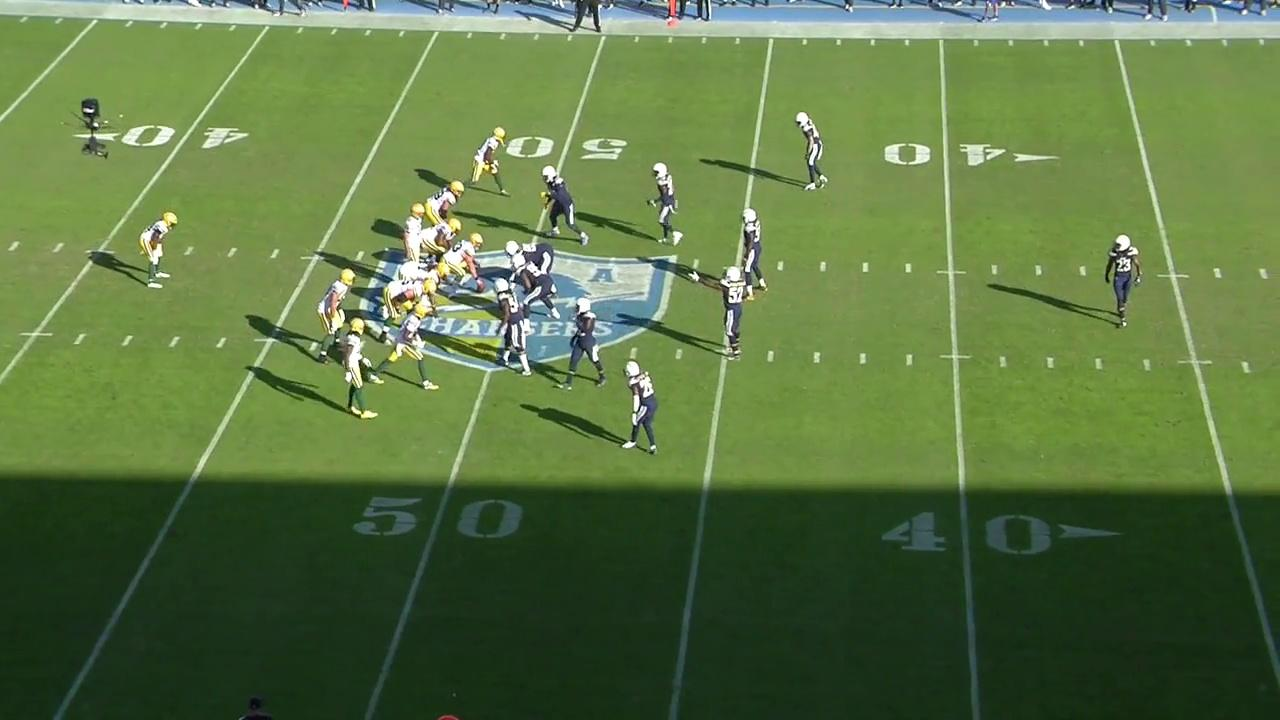defense: (550, 295, 612, 393), (689, 266, 750, 364), (508, 254, 562, 333), (493, 279, 535, 378), (1101, 231, 1142, 330), (620, 362, 663, 455), (541, 165, 589, 246), (645, 159, 686, 249), (738, 205, 772, 303), (503, 238, 560, 295), (792, 110, 828, 194)
oline: (378, 276, 438, 345), (438, 231, 488, 294), (420, 218, 464, 262), (425, 179, 464, 225), (397, 261, 451, 286)
qb: (403, 201, 428, 266)
skill: (367, 303, 440, 393), (311, 266, 362, 366), (340, 317, 379, 421), (466, 125, 513, 200), (135, 211, 180, 287)
